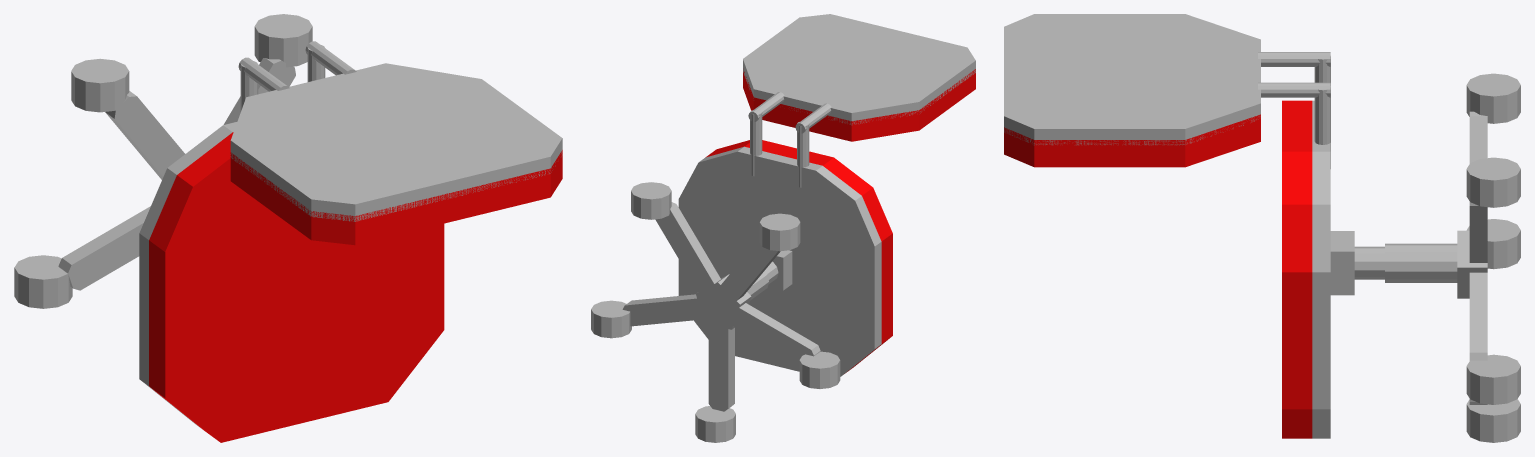
The model's file is nil_link_mesh.dae.
The picture shows the model from 3 angles, left to right: view 1: azimuth 30°, elevation 25°; view 2: azimuth 150°, elevation 25°; view 3: azimuth 270°, elevation 25°; orthographic projection. The views are drawn at different scales.
Visible parts, largest first — view 1: nil_link (×12); view 2: nil_link (×20); view 3: nil_link (×19).
Part boxes in pixels (left/top/right/bottom): nil_link (×12): left=14, top=14, right=562, bottom=442; nil_link (×20): left=591, top=14, right=975, bottom=442; nil_link (×19): left=1004, top=14, right=1520, bottom=442.
Bounding box in the file's own units: 0.6217 × 0.6633 × 0.855.
